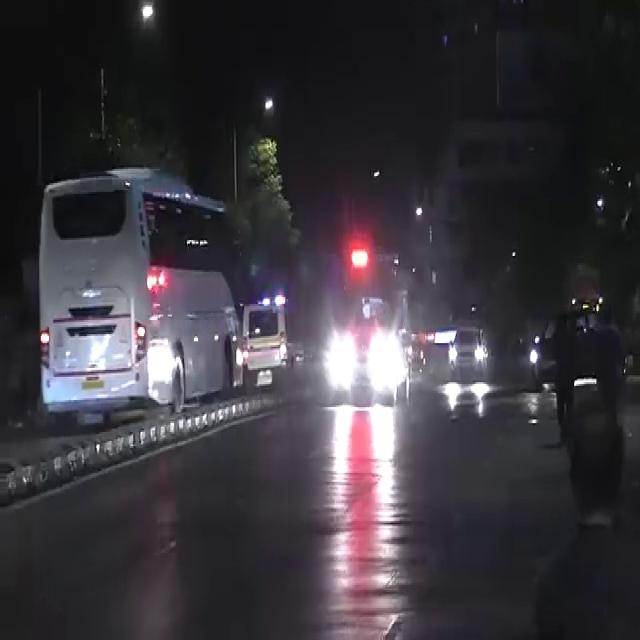ambulance: (315, 234, 425, 439)
